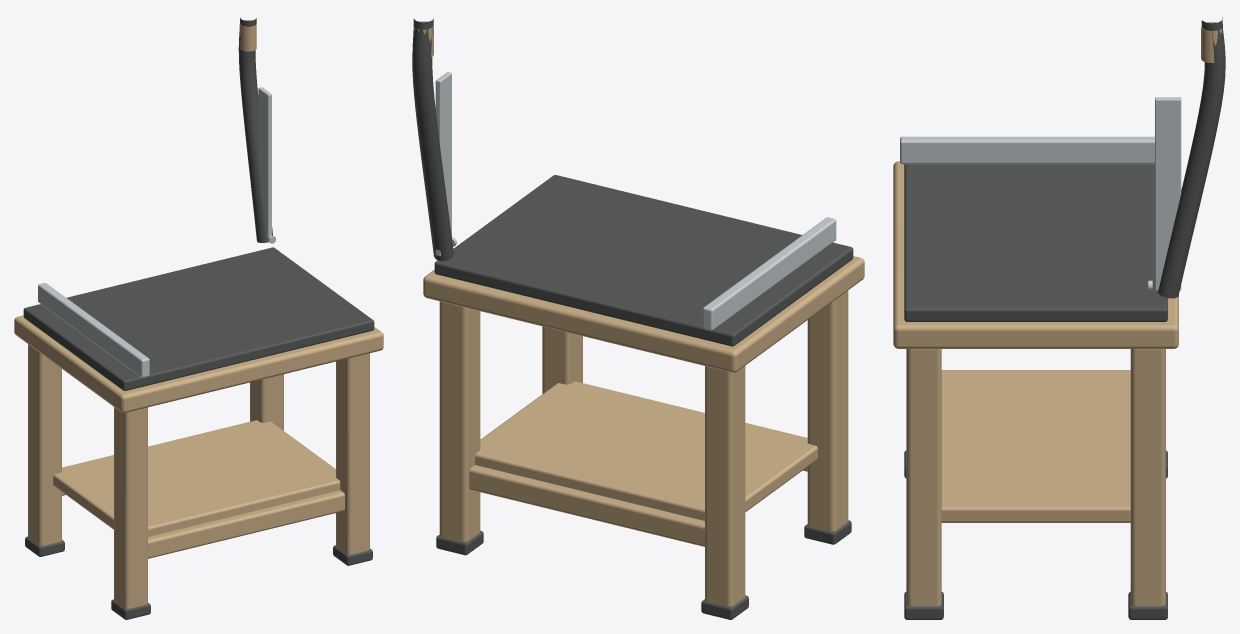
The model's file is bookbinding-and-paper-mill-board-shear-5c33e00c__30559.glb.
3 renders of one model, left to right at view 1: azimuth 30°, elevation 25°; view 2: azimuth 150°, elevation 25°; view 3: azimuth 270°, elevation 25°, orthographic. The views are drawn at different scales.
Parts seen in each view (by area): view 1: board-shear; view 2: board-shear; view 3: board-shear.
Part boxes in pixels (x1,y1,x2,y2): board-shear: [14, 17, 383, 619]; board-shear: [412, 18, 864, 619]; board-shear: [893, 17, 1225, 619].
Bounding box in the file's own units: 0.9 × 1.5 × 0.7561.
